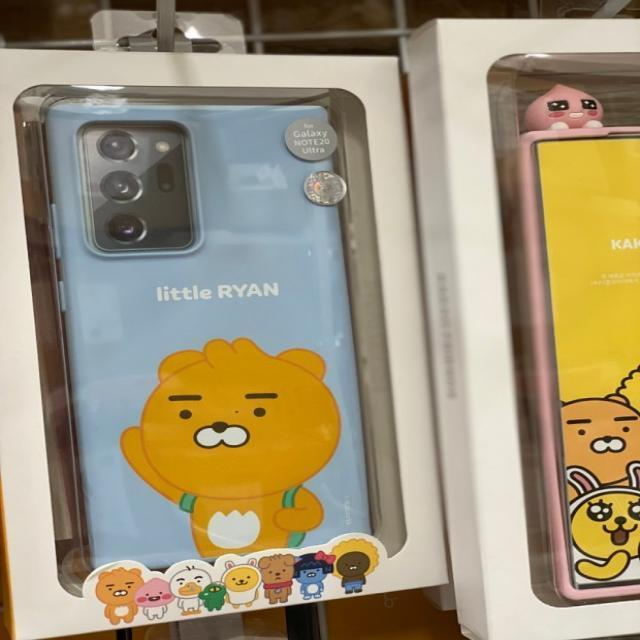phone: (46, 100, 373, 572)
